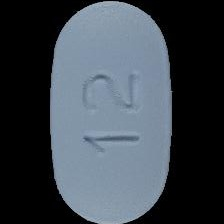53808-0752: (0, 0, 224, 224)
